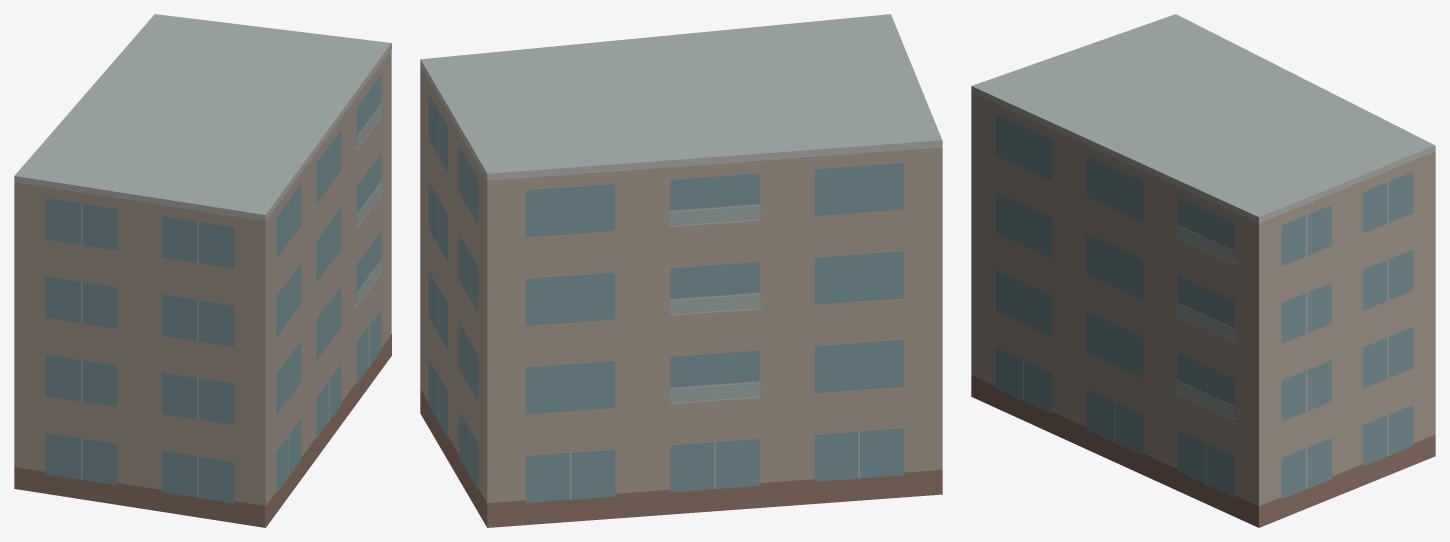
Rendered from survey-upis-32840181.glb.
3 views of the same model, side by side, from view 1: azimuth 30°, elevation 25°; view 2: azimuth 150°, elevation 25°; view 3: azimuth 270°, elevation 25° (orthographic). The views are drawn at different scales.
Visible parts, largest first — view 1: survey-upis-32840181.tmp; view 2: survey-upis-32840181.tmp; view 3: survey-upis-32840181.tmp.
Boxes of the visible parts, x1,y1,x2,y2 form: survey-upis-32840181.tmp: (14, 14, 391, 527); survey-upis-32840181.tmp: (420, 14, 942, 527); survey-upis-32840181.tmp: (971, 14, 1435, 527).
Bounding box in the file's own units: 17.12 × 12.2 × 16.53.
